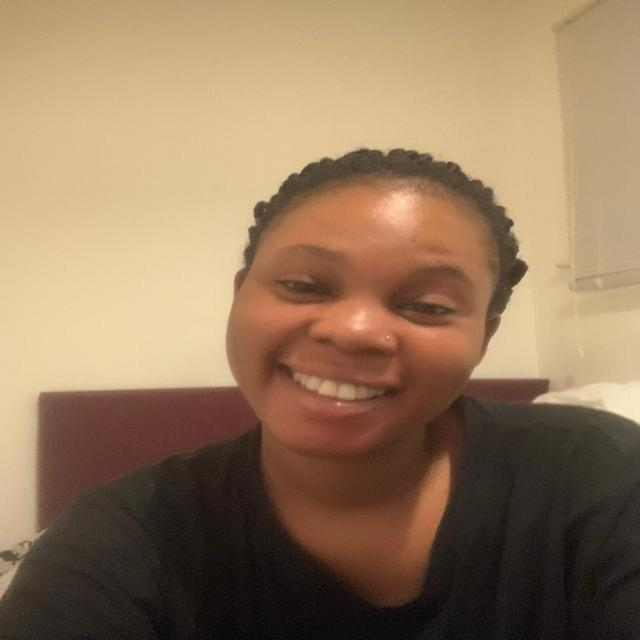happy: (221, 152, 510, 458)
